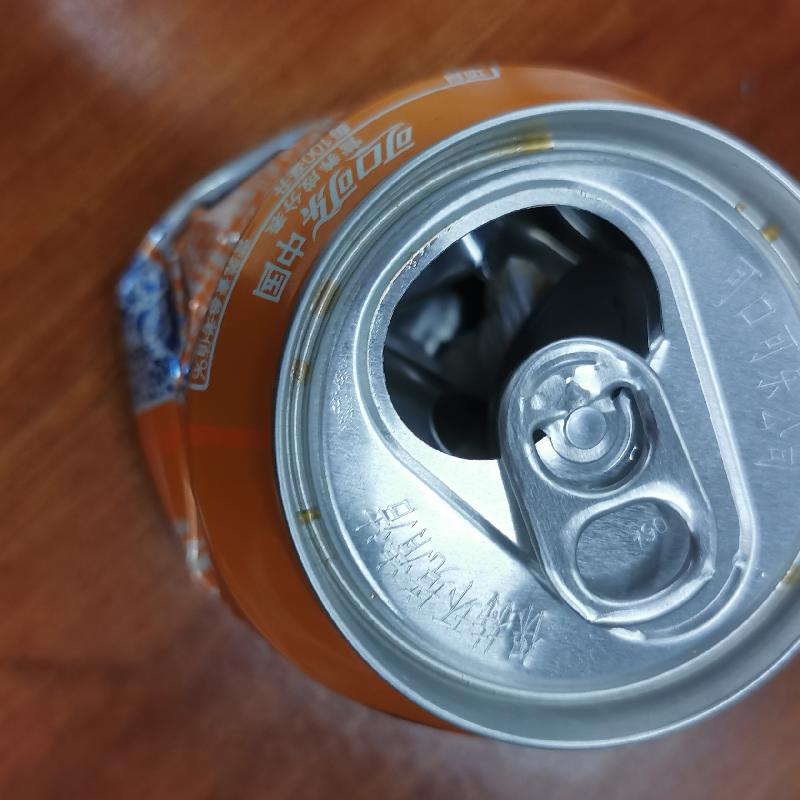cans: (121, 62, 800, 750)
